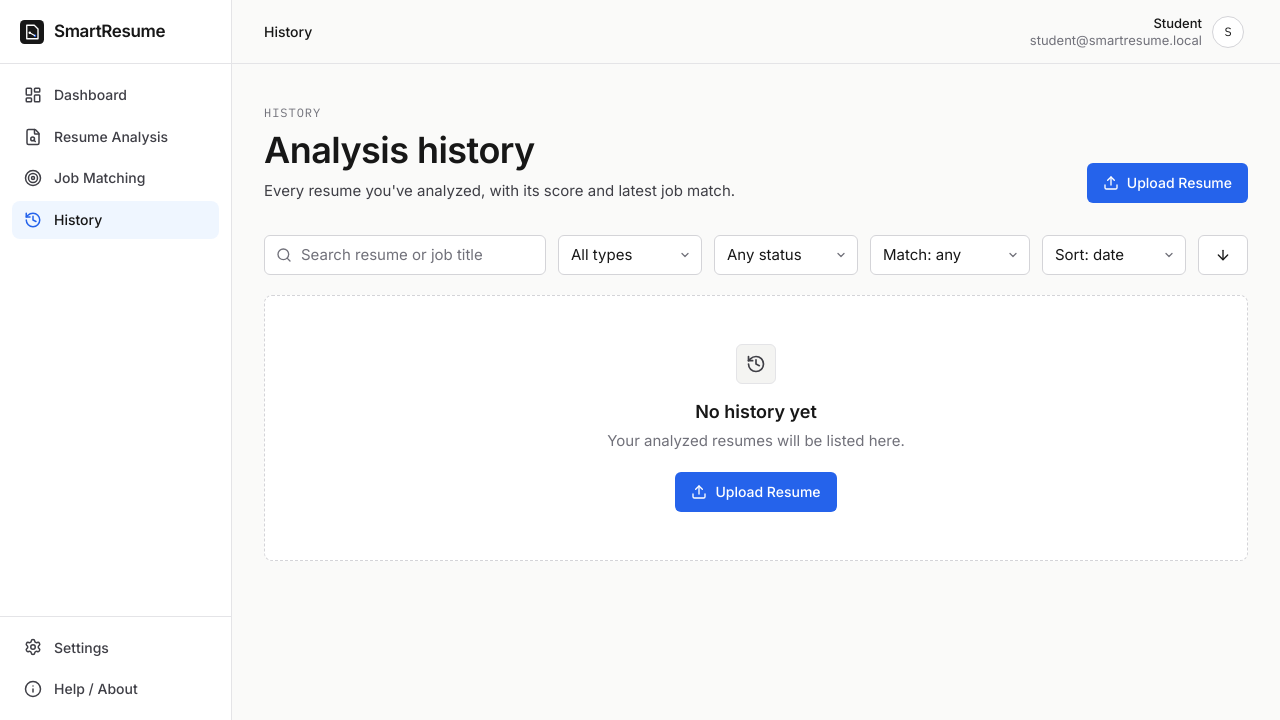
Test: History › distinguishes "no history" from "no results for filters"
Check: the heading "No history yet" is shown, box [695,400,817,423]
Select "DOCX" in the dropdown named "File type" at (630, 255), box [558,235,702,275]
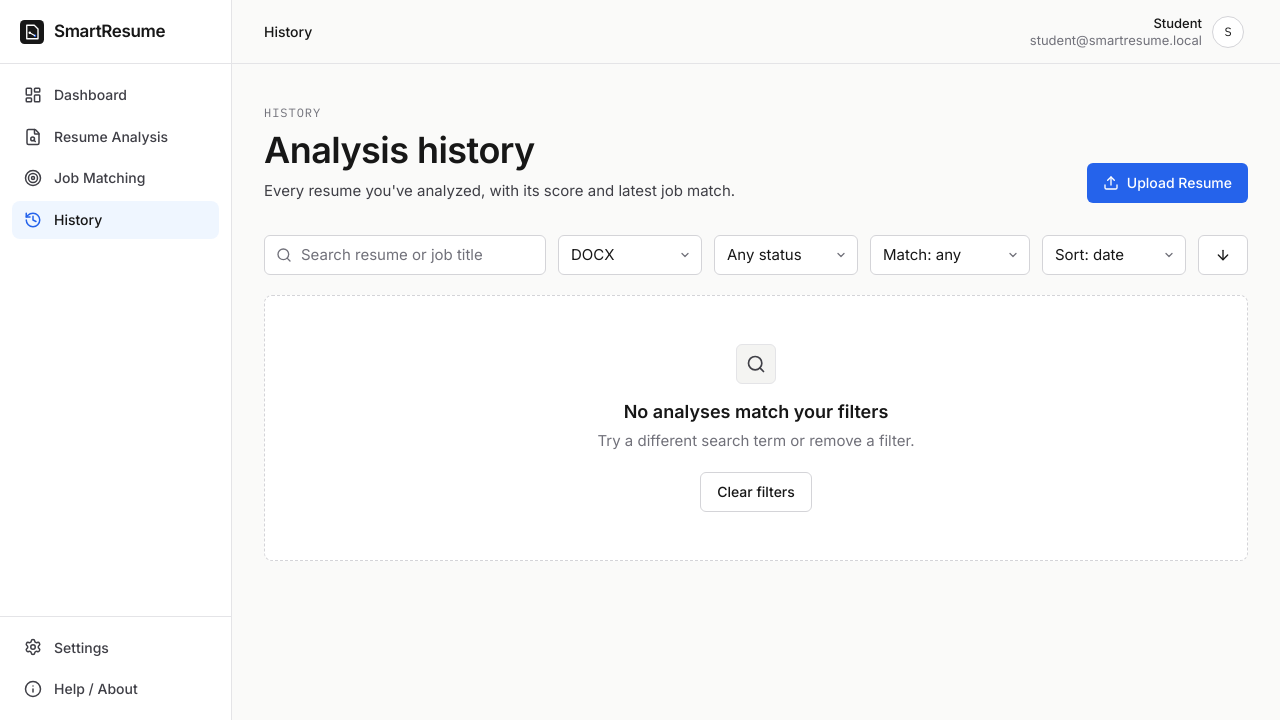
Check: the heading "No analyses match your filters" is shown, box [624,400,888,423]
Click the button "Clear filters" at (756, 492), box [700,472,812,512]
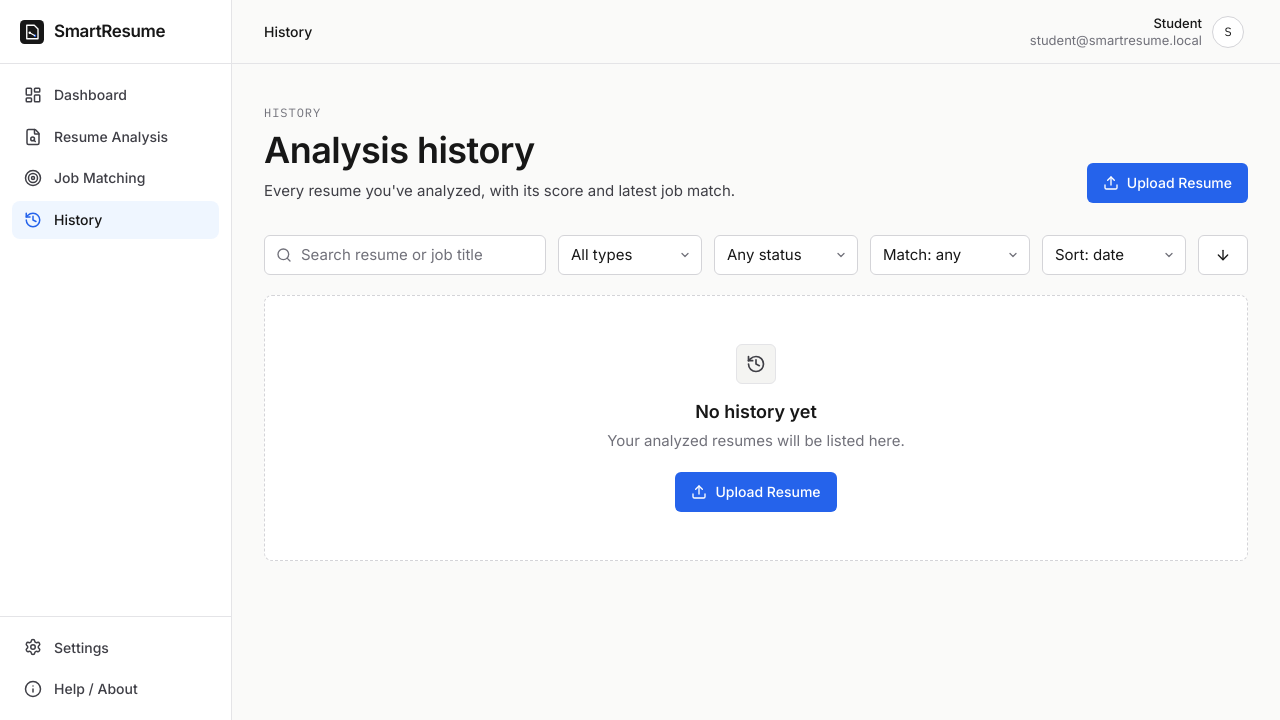
Check: the heading "No history yet" is shown, box [695,400,817,423]
